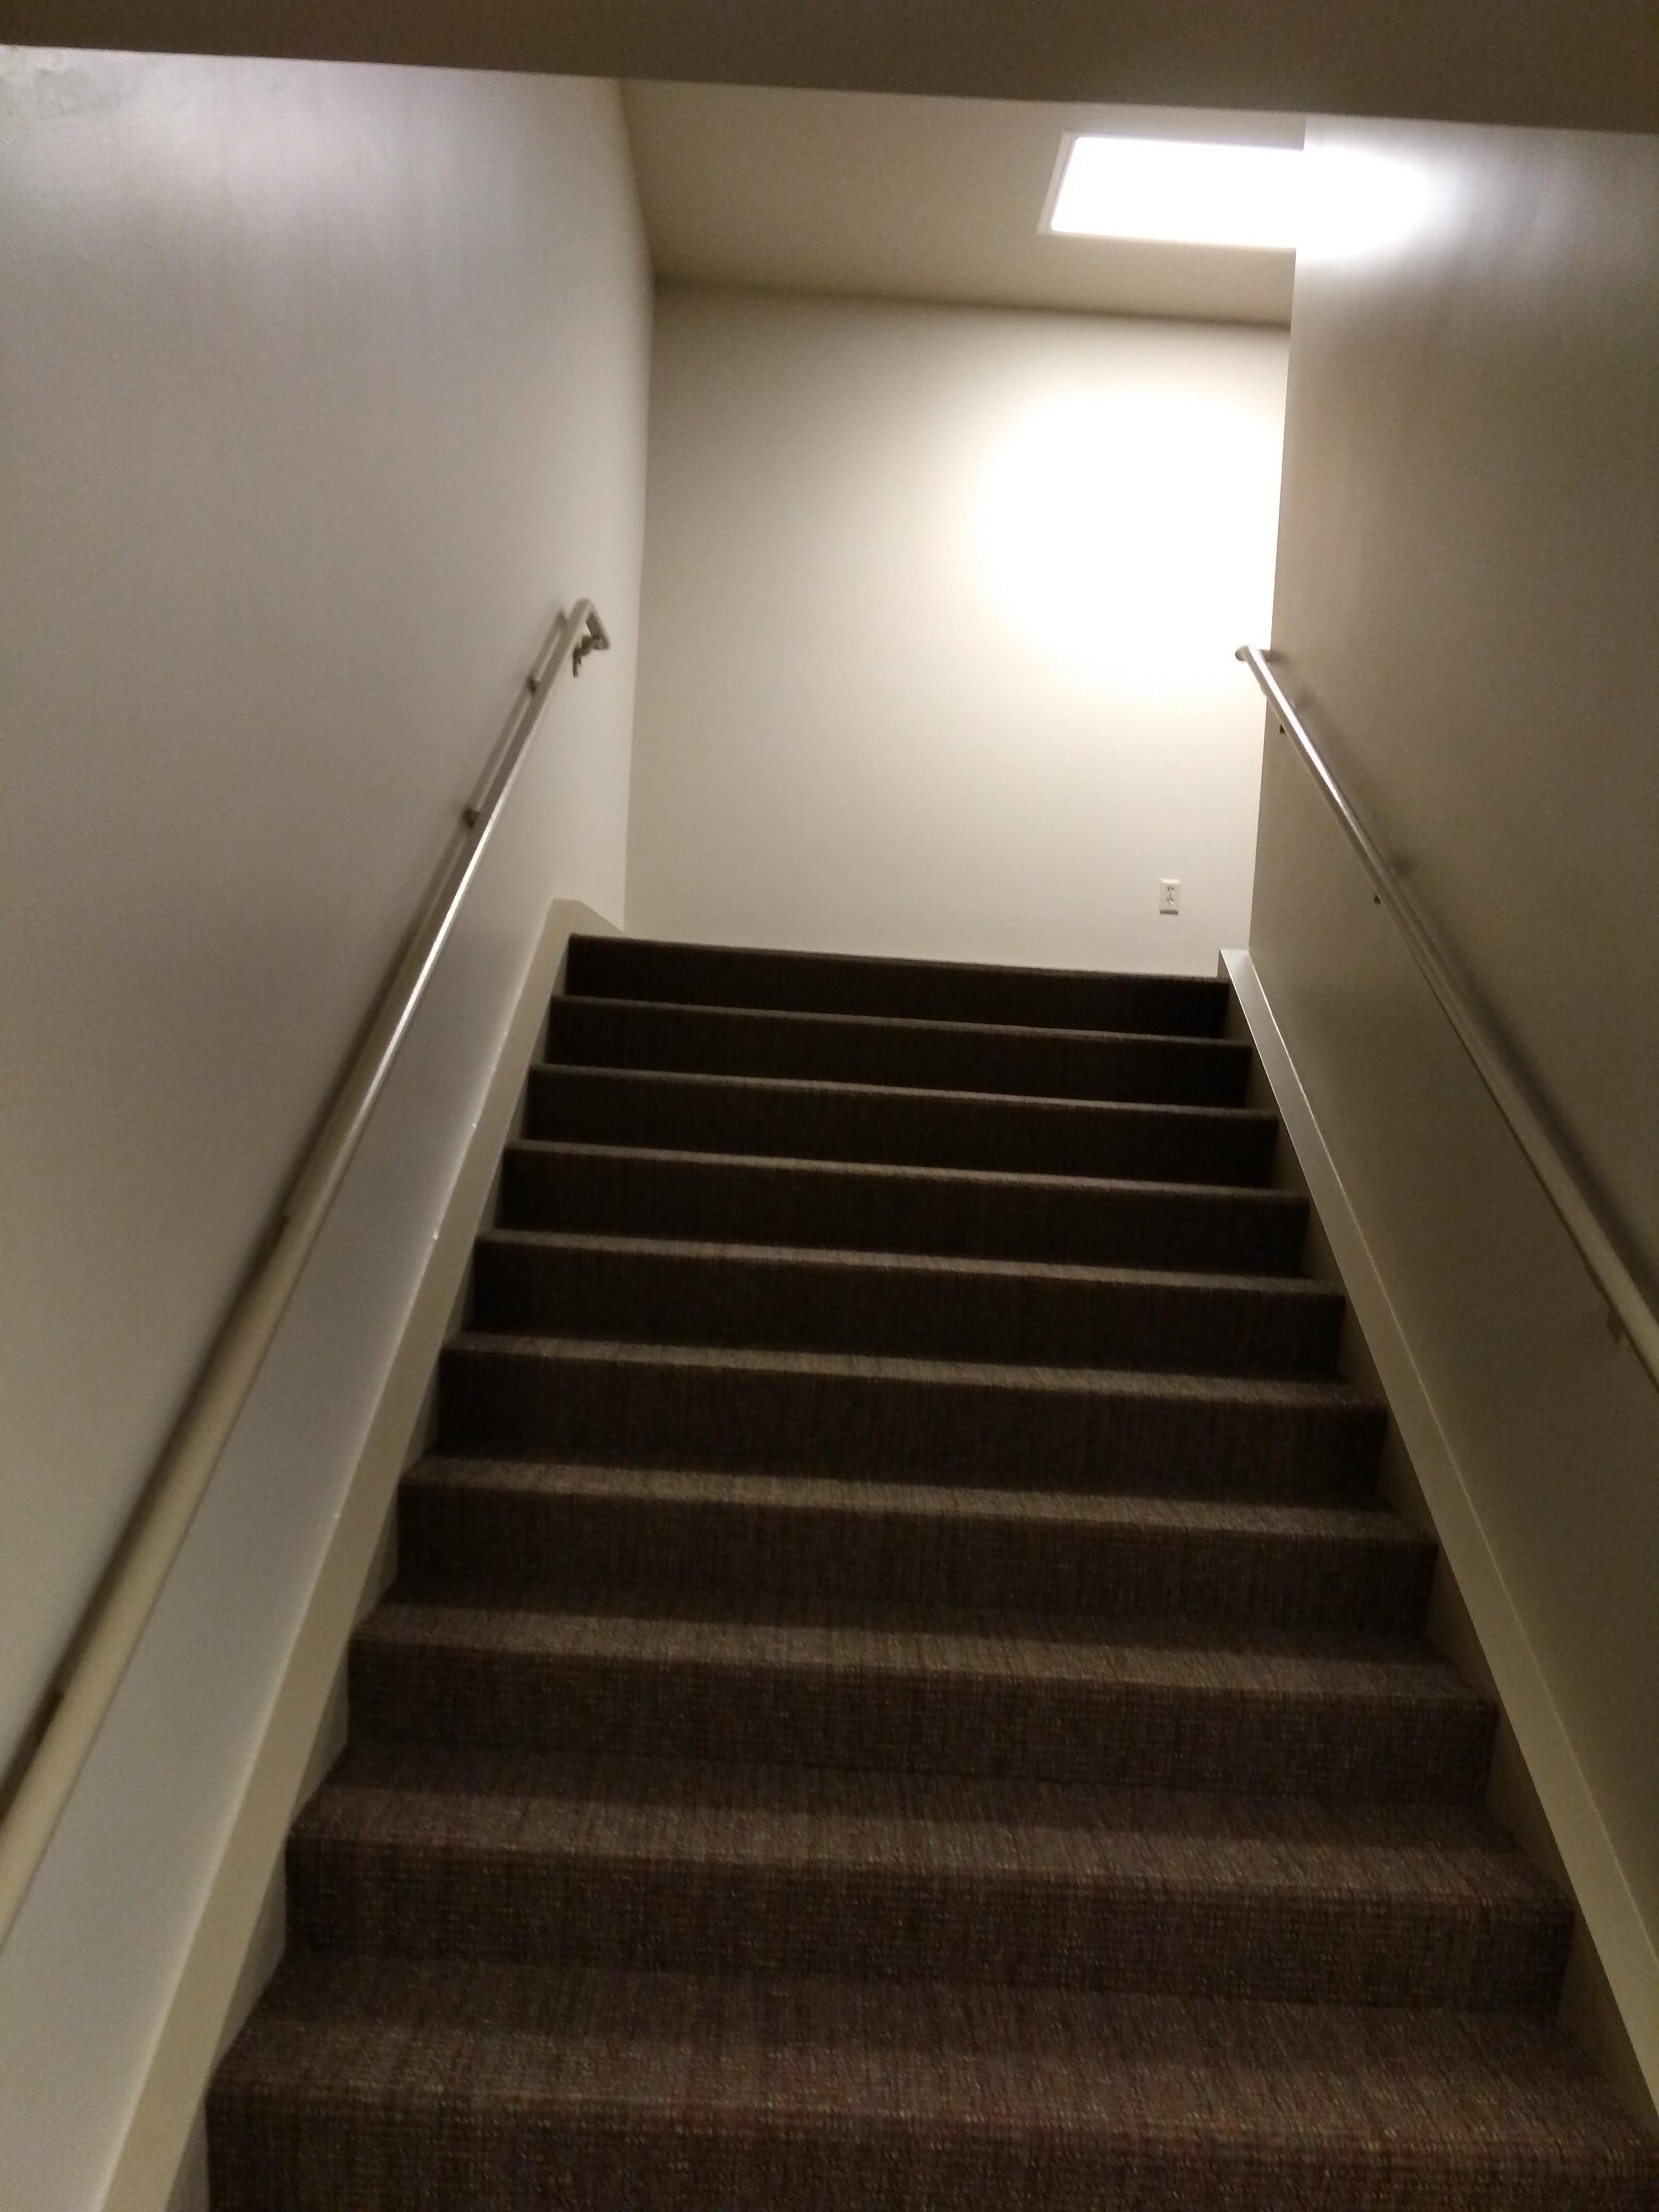stairs_up: (267, 819, 1596, 2184)
